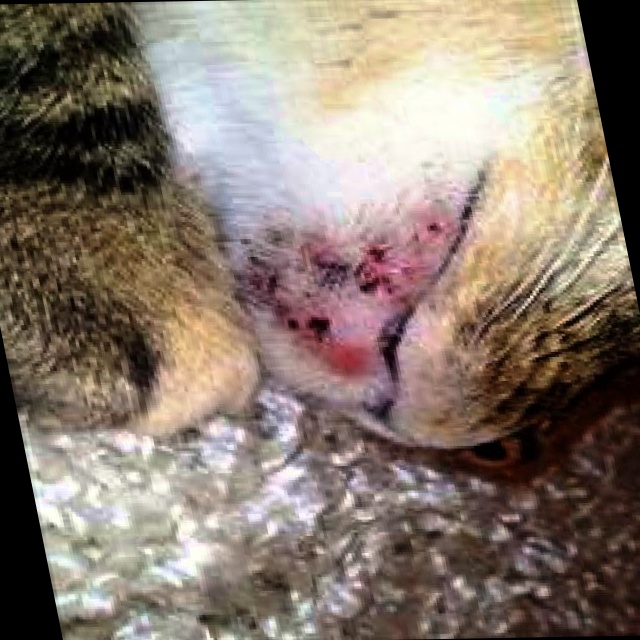acne: (227, 208, 478, 346)
